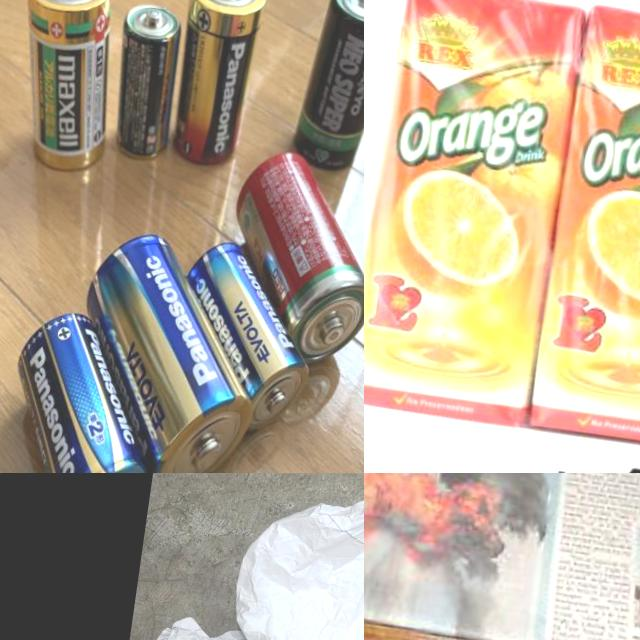bateria: (57, 225, 277, 473), (168, 235, 334, 443), (213, 147, 364, 374), (0, 306, 170, 473), (4, 0, 129, 182), (163, 0, 271, 177), (100, 0, 188, 169), (286, 0, 364, 178)
caixinha: (364, 0, 587, 429), (533, 0, 640, 455)
papel: (364, 473, 640, 640), (138, 473, 364, 640)
